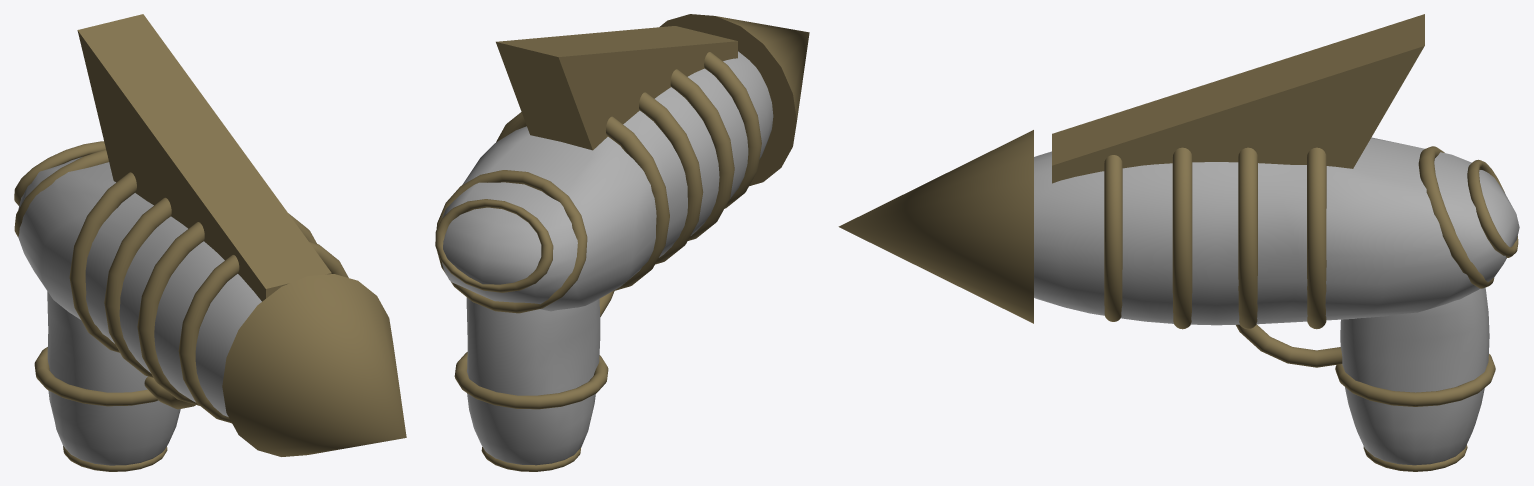
The model's file is RayGun.fbx.
3 renders of one model, left to right at view 1: azimuth 30°, elevation 25°; view 2: azimuth 150°, elevation 25°; view 3: azimuth 270°, elevation 25°, orthographic. The views are drawn at different scales.
Parts seen in each view (by area): view 1: raygun; view 2: raygun; view 3: raygun.
Part boxes in pixels (x1,y1,x2,y2): raygun: [14, 14, 406, 471]; raygun: [435, 14, 809, 471]; raygun: [838, 14, 1519, 471].
Bounding box in the file's own units: 2.2 × 4.81 × 6.96.
